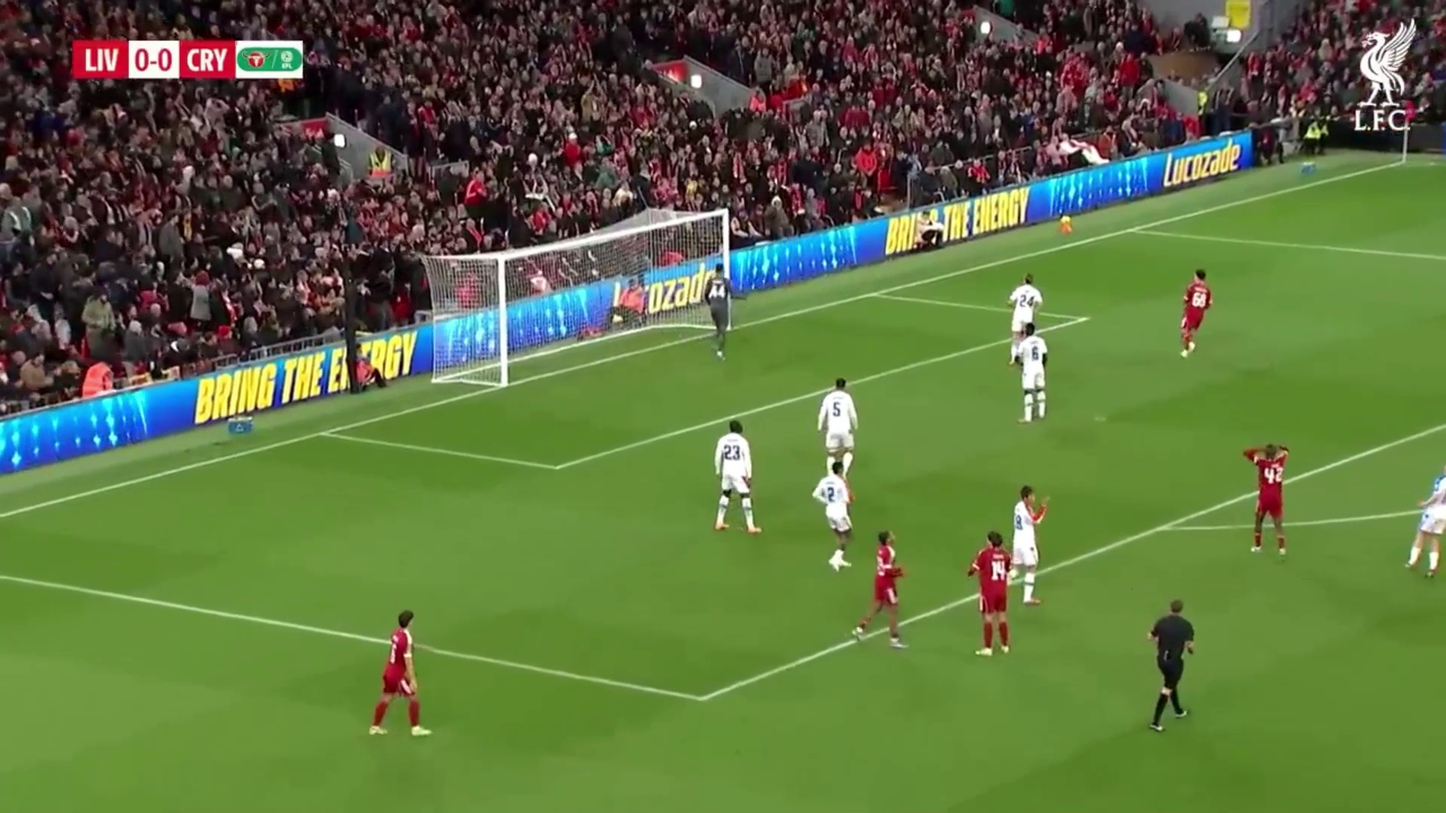player: (368, 615, 427, 737), (851, 530, 909, 647), (967, 532, 1017, 658), (1147, 597, 1196, 725), (713, 423, 761, 536), (812, 458, 854, 571), (1405, 466, 1446, 577), (1248, 447, 1289, 556), (1010, 484, 1046, 608), (818, 376, 858, 479), (1010, 320, 1049, 424), (1178, 268, 1212, 358), (1007, 274, 1044, 349), (704, 270, 730, 360)
